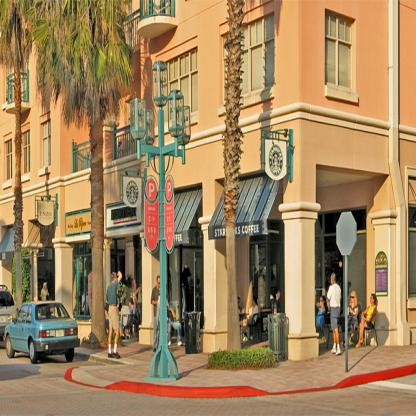Car: (1, 296, 83, 366), (1, 279, 16, 344)
